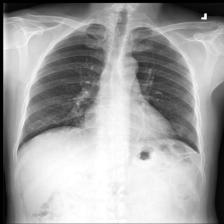normal: (13, 19, 206, 172)
